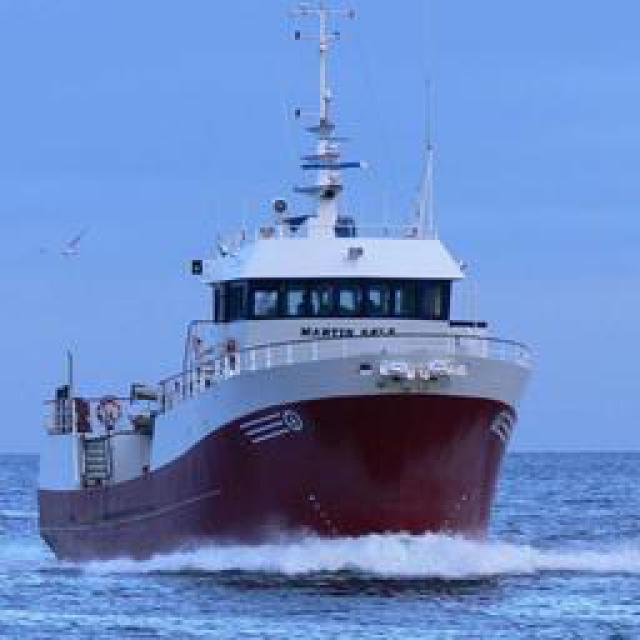Ship: (36, 12, 539, 565)
